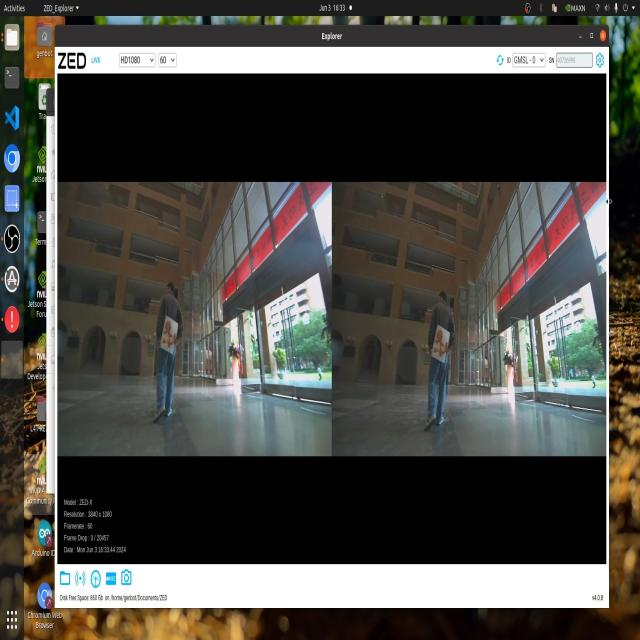red: (429, 326, 454, 363), (163, 320, 180, 356)
